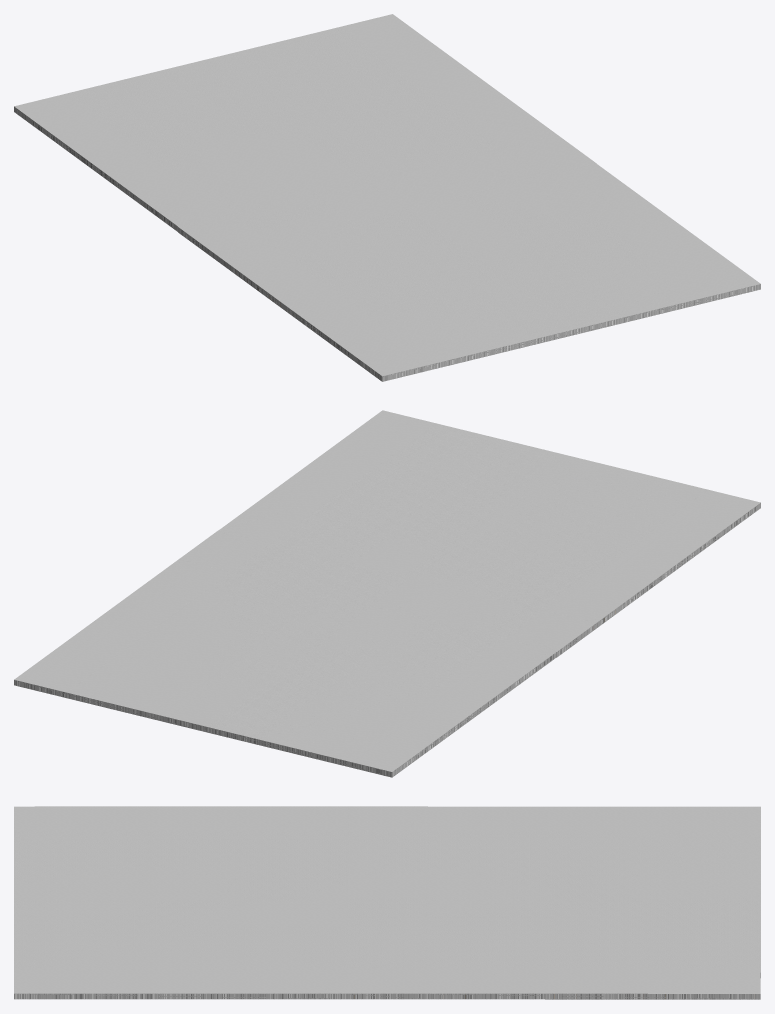
Rendered from techo.glb.
The picture shows the model from 3 angles, top to bottom: view 1: azimuth 30°, elevation 25°; view 2: azimuth 150°, elevation 25°; view 3: azimuth 270°, elevation 25°; orthographic projection.
Parts seen in each view (by area): view 1: Suelo_TileTexture_0.004; view 2: Suelo_TileTexture_0.004; view 3: Suelo_TileTexture_0.004.
Part boxes in pixels (left/top/right/bottom): Suelo_TileTexture_0.004: left=14, top=14, right=760, bottom=381; Suelo_TileTexture_0.004: left=14, top=410, right=760, bottom=777; Suelo_TileTexture_0.004: left=14, top=806, right=760, bottom=999.
Bounding box in the file's own units: 33.92 × 0.4801 × 57.13.
Materials: 2 (2 with a texture image).
